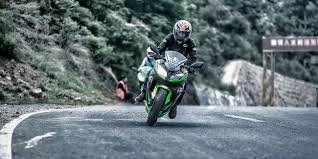motor: (138, 52, 189, 129)
